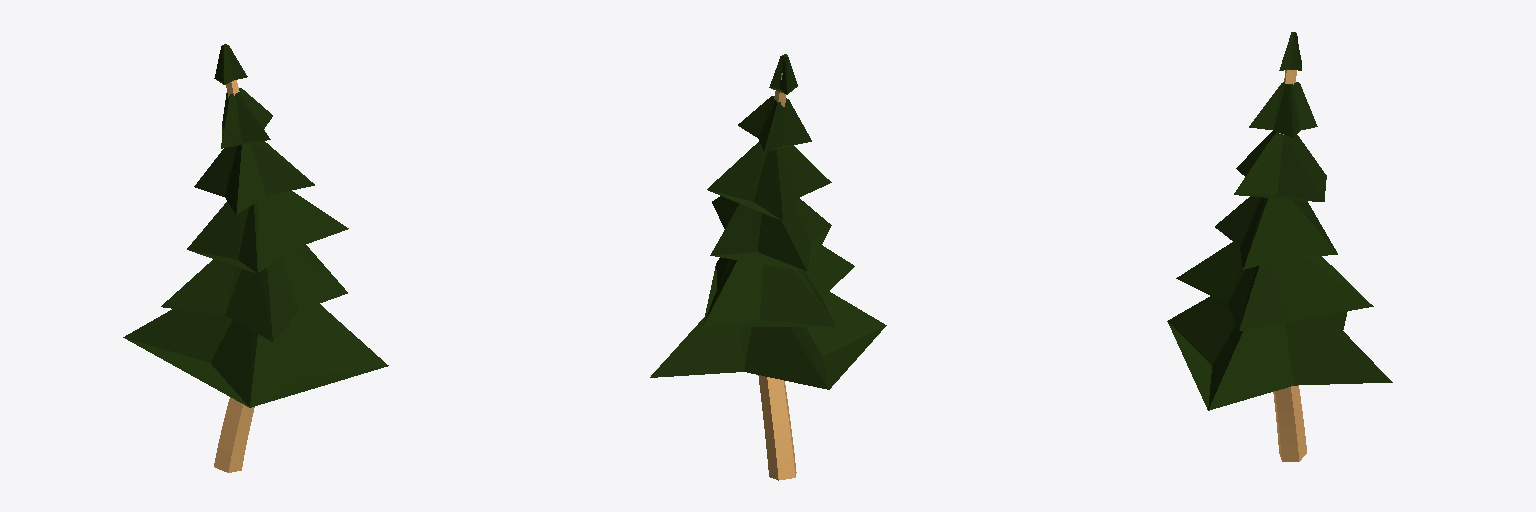
File: spruce_1.obj
The picture shows the model from 3 angles: view 1: azimuth 30°, elevation 25°; view 2: azimuth 150°, elevation 25°; view 3: azimuth 270°, elevation 25°; orthographic projection.
Visible parts, largest first — view 1: main_spruce.001; view 2: main_spruce.001; view 3: main_spruce.001.
Part boxes in pixels (left/top/right/bottom): main_spruce.001: left=123, top=44, right=388, bottom=472; main_spruce.001: left=650, top=54, right=886, bottom=480; main_spruce.001: left=1167, top=32, right=1392, bottom=461.
Bounding box in the file's own units: 4.48 × 9.34 × 4.5.